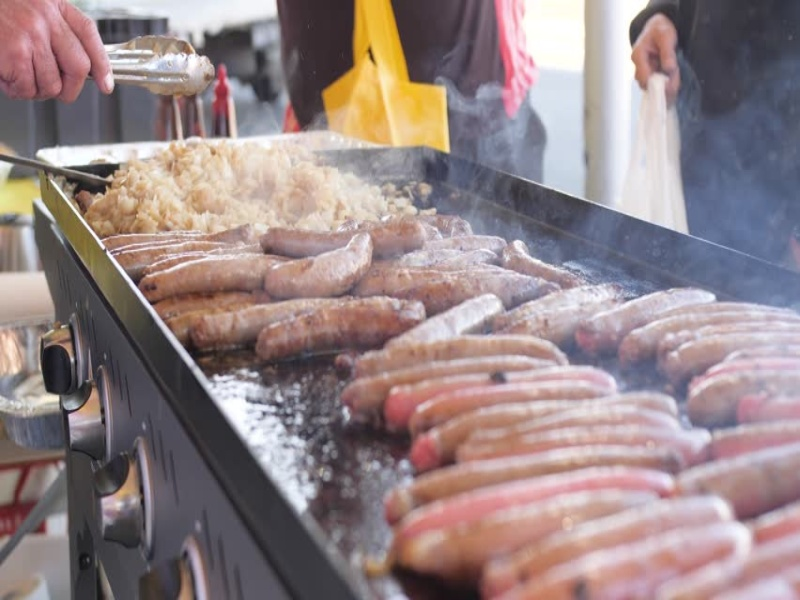smoke: (477, 98, 796, 296)
